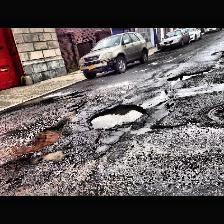pothole: (90, 103, 146, 131), (29, 148, 69, 164), (56, 88, 90, 100), (166, 74, 192, 82)
